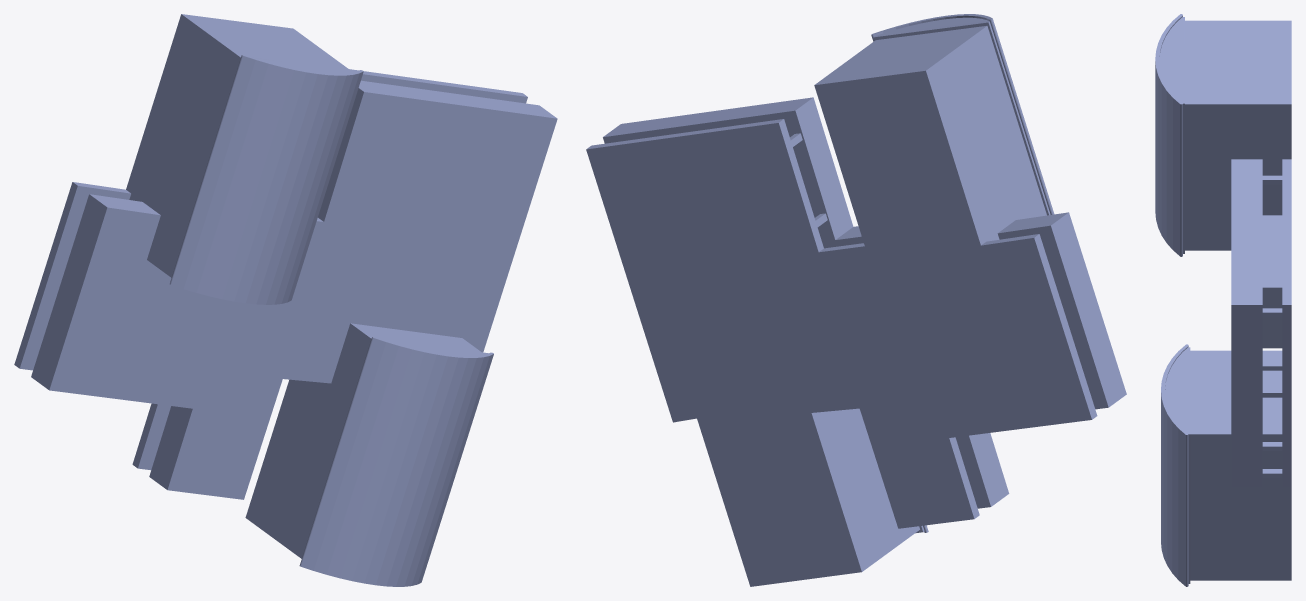
The picture shows the model from 3 angles, left to right: view 1: azimuth 30°, elevation 25°; view 2: azimuth 150°, elevation 25°; view 3: azimuth 270°, elevation 25°; orthographic projection. The views are drawn at different scales.
Visible parts, largest first — view 1: LT3 & LT4; view 2: LT3 & LT4; view 3: LT3 & LT4.
Part boxes in pixels (bbox=[...]): LT3 & LT4: bbox=[14, 14, 557, 586]; LT3 & LT4: bbox=[586, 14, 1126, 586]; LT3 & LT4: bbox=[1155, 14, 1291, 586].
Bounding box in the file's own units: 53.29 × 57.48 × 14.32.
